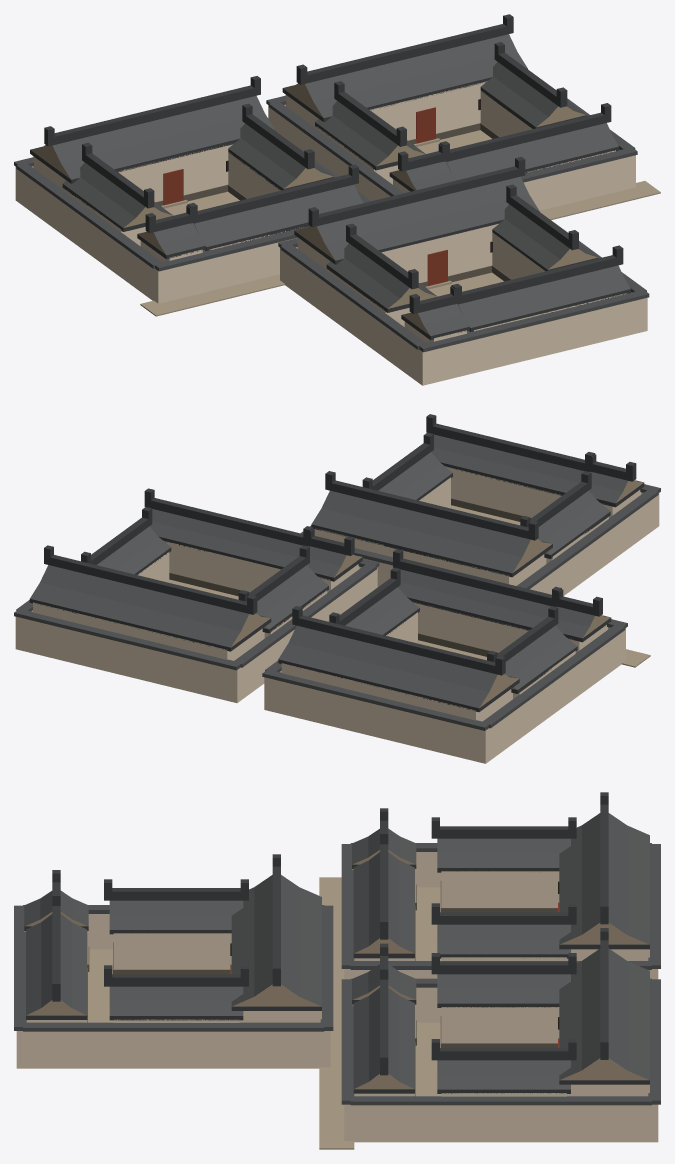
The model's file is K07b_far.glb.
3 views of the same model, one above another, from view 1: azimuth 30°, elevation 25°; view 2: azimuth 150°, elevation 25°; view 3: azimuth 270°, elevation 25° (orthographic). The views are drawn at different scales.
Parts seen in each view (by area): view 1: K07b_far; view 2: K07b_far; view 3: K07b_far.
Part boxes in pixels (x1,y1,x2,y2): K07b_far: (14,14,660,385); K07b_far: (14,414,660,763); K07b_far: (14,792,660,1149).
Bounding box in the file's own units: 46 × 7.65 × 46.4.
